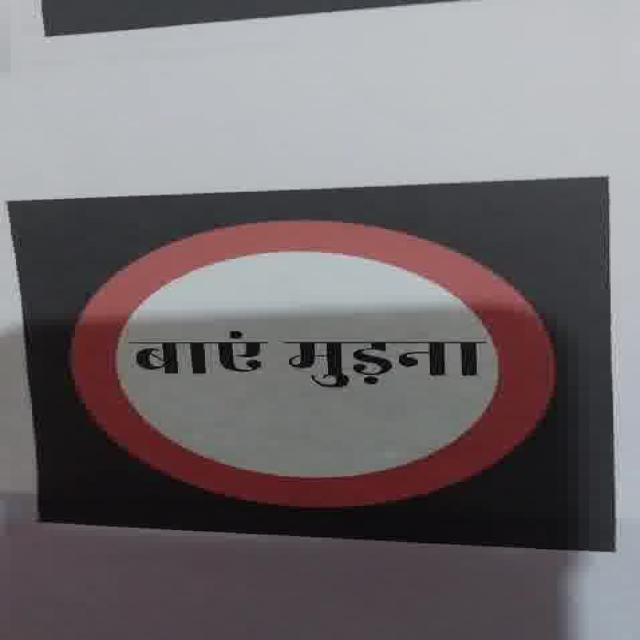hindileft: (67, 216, 558, 510), (128, 330, 488, 388), (32, 0, 483, 37), (112, 321, 278, 398)
